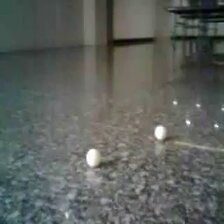w: (85, 148, 102, 169), (153, 125, 168, 141)
